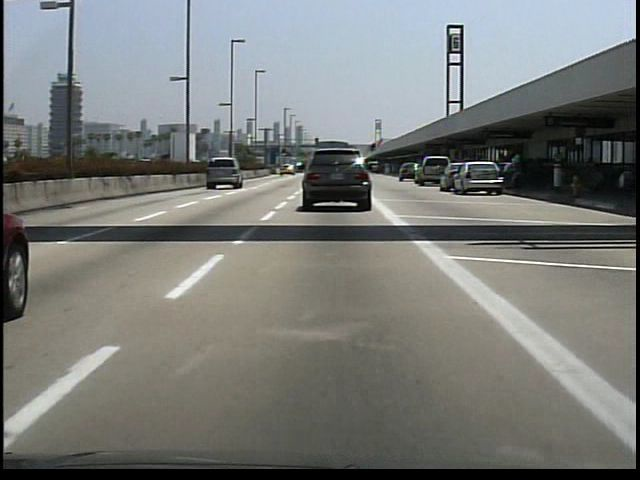person: (507, 150, 532, 191)
